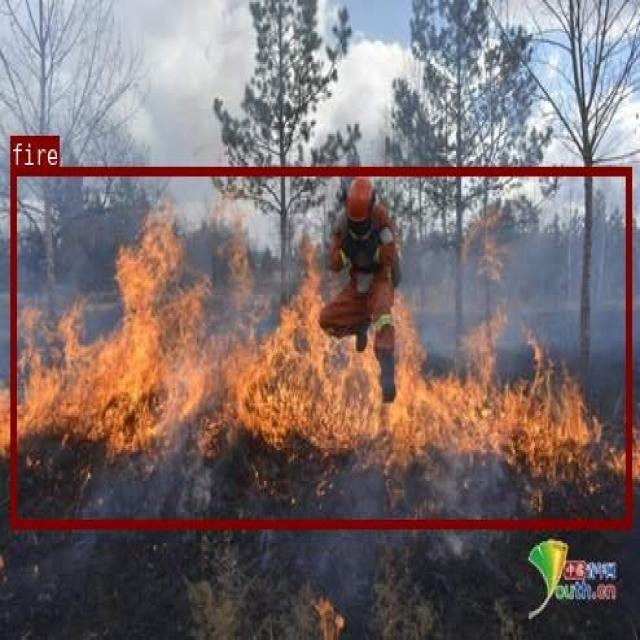fire: (10, 166, 630, 526)
